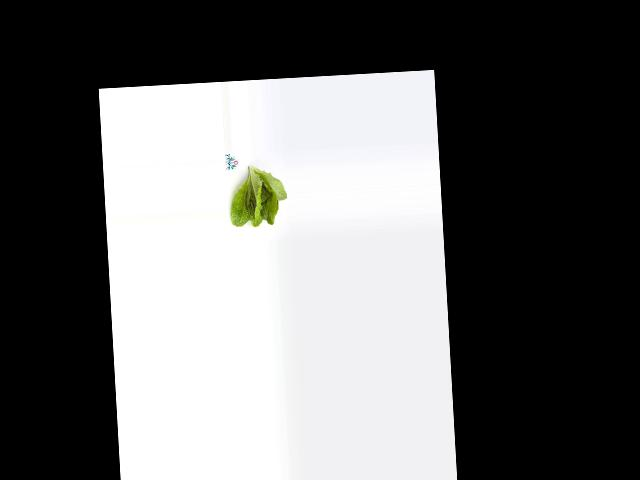lettuce: (228, 163, 289, 230)
